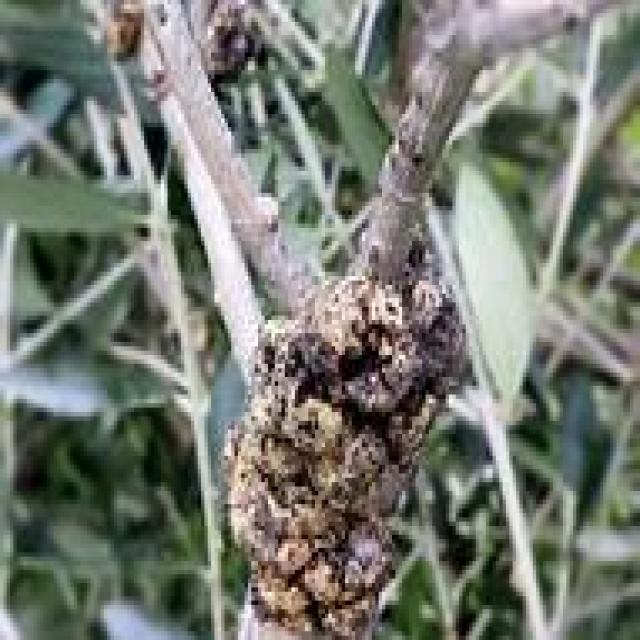Tuberculosis: (225, 224, 460, 636)
